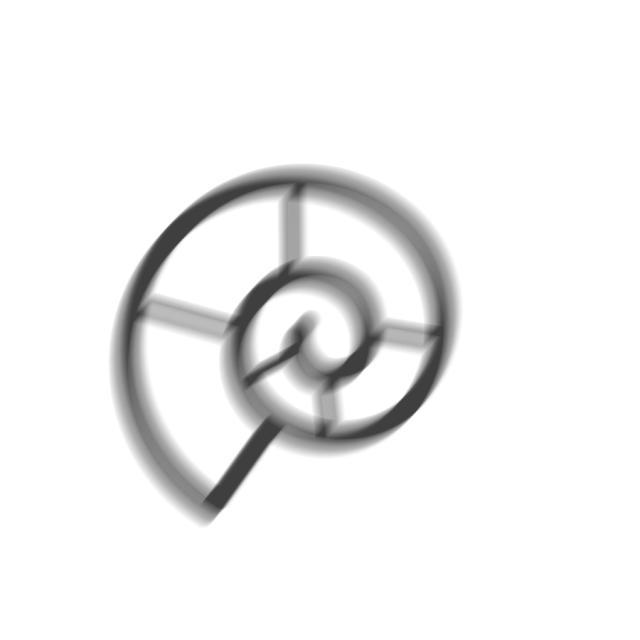fossil: (103, 158, 469, 534)
